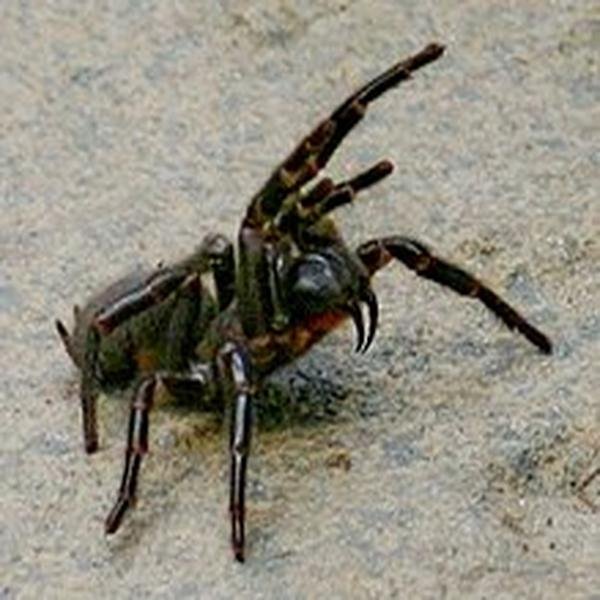Funnel Web Spider: (72, 44, 541, 559)
